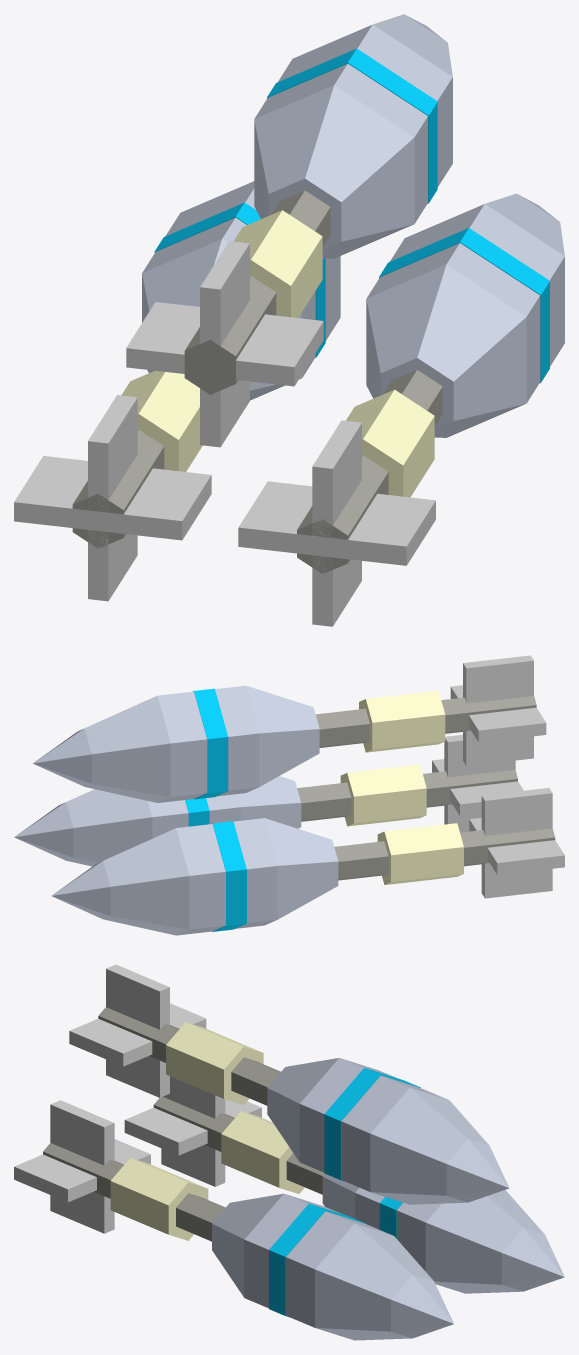
The model's file is ce_ammo_mortar_emp_b.obj.
3 renders of one model, top to bottom at view 1: azimuth 30°, elevation 25°; view 2: azimuth 150°, elevation 25°; view 3: azimuth 270°, elevation 25°, orthographic. The views are drawn at different scales.
Visible parts, largest first — view 1: ce_ammo_mortar_emp_b_12, ce_ammo_mortar_emp_b_22, ce_ammo_mortar_emp_b_18, ce_ammo_mortar_emp_b_8, ce_ammo_mortar_emp_b_28, ce_ammo_mortar_emp_b_19, ce_ammo_mortar_emp_b_9, ce_ammo_mortar_emp_b_29, ce_ammo_mortar_emp_b_21, ce_ammo_mortar_emp_b_11, ce_ammo_mortar_emp_b_20, ce_ammo_mortar_emp_b_25 (+14 smaller); view 2: ce_ammo_mortar_emp_b_6, ce_ammo_mortar_emp_b_26, ce_ammo_mortar_emp_b_16, ce_ammo_mortar_emp_b_9, ce_ammo_mortar_emp_b_29, ce_ammo_mortar_emp_b_22, ce_ammo_mortar_emp_b_2, ce_ammo_mortar_emp_b_21, ce_ammo_mortar_emp_b_1, ce_ammo_mortar_emp_b_11, ce_ammo_mortar_emp_b_25, ce_ammo_mortar_emp_b_5 (+18 smaller); view 3: ce_ammo_mortar_emp_b_26, ce_ammo_mortar_emp_b_16, ce_ammo_mortar_emp_b_6, ce_ammo_mortar_emp_b_19, ce_ammo_mortar_emp_b_29, ce_ammo_mortar_emp_b_11, ce_ammo_mortar_emp_b_21, ce_ammo_mortar_emp_b_1, ce_ammo_mortar_emp_b_25, ce_ammo_mortar_emp_b_15, ce_ammo_mortar_emp_b_23, ce_ammo_mortar_emp_b_13 (+18 smaller).
Part boxes in pixels (box(x1,y1,x2,y2)): ce_ammo_mortar_emp_b_12: box(366, 264, 526, 437); ce_ammo_mortar_emp_b_22: box(254, 85, 414, 258); ce_ammo_mortar_emp_b_18: box(238, 481, 435, 565); ce_ammo_mortar_emp_b_8: box(14, 456, 211, 540); ce_ammo_mortar_emp_b_28: box(126, 302, 323, 386); ce_ammo_mortar_emp_b_19: box(312, 420, 361, 626); ce_ammo_mortar_emp_b_9: box(88, 395, 137, 601); ce_ammo_mortar_emp_b_29: box(200, 241, 249, 447); ce_ammo_mortar_emp_b_21: box(233, 210, 322, 317); ce_ammo_mortar_emp_b_11: box(346, 389, 434, 497); ce_ammo_mortar_emp_b_20: box(184, 190, 330, 394); ce_ammo_mortar_emp_b_25: box(278, 24, 452, 186); ce_ammo_mortar_emp_b_6: box(103, 828, 189, 935); ce_ammo_mortar_emp_b_26: box(84, 695, 170, 802); ce_ammo_mortar_emp_b_16: box(66, 789, 152, 866); ce_ammo_mortar_emp_b_9: box(481, 788, 552, 898); ce_ammo_mortar_emp_b_29: box(463, 655, 533, 765); ce_ammo_mortar_emp_b_22: box(246, 685, 319, 786); ce_ammo_mortar_emp_b_2: box(264, 818, 338, 919); ce_ammo_mortar_emp_b_21: box(359, 690, 445, 752); ce_ammo_mortar_emp_b_1: box(377, 823, 463, 884); ce_ammo_mortar_emp_b_11: box(340, 764, 426, 826); ce_ammo_mortar_emp_b_25: box(157, 691, 207, 802); ce_ammo_mortar_emp_b_5: box(176, 824, 225, 935); ce_ammo_mortar_emp_b_26: box(370, 1087, 489, 1204); ce_ammo_mortar_emp_b_16: box(315, 1223, 433, 1340); ce_ammo_mortar_emp_b_6: box(425, 1190, 544, 1293); ce_ammo_mortar_emp_b_19: box(50, 1100, 114, 1233); ce_ammo_mortar_emp_b_29: box(106, 964, 169, 1097); ce_ammo_mortar_emp_b_11: box(110, 1158, 208, 1240); ce_ammo_mortar_emp_b_21: box(166, 1022, 263, 1104); ce_ammo_mortar_emp_b_1: box(221, 1111, 304, 1193); ce_ammo_mortar_emp_b_25: box(341, 1075, 447, 1191); ce_ammo_mortar_emp_b_15: box(286, 1211, 392, 1327); ce_ammo_mortar_emp_b_23: box(299, 1058, 396, 1172); ce_ammo_mortar_emp_b_13: box(244, 1193, 340, 1308).
Size of the model in its own units: 0.8443 by 0.39 by 0.8443.
